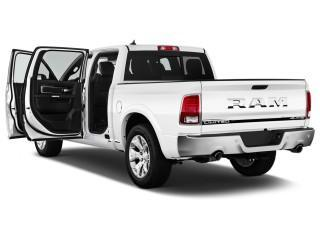ram: (222, 96, 293, 109)
